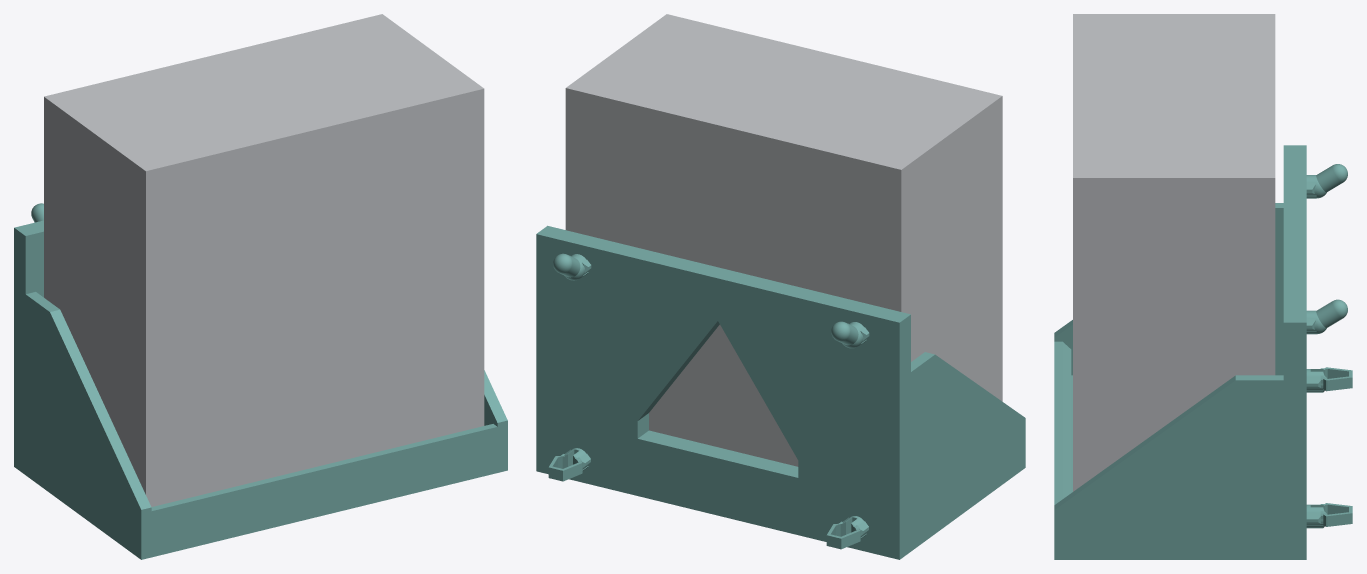
The model's file is loaded.glb.
3 views of the same model, side by side, from view 1: azimuth 30°, elevation 25°; view 2: azimuth 150°, elevation 25°; view 3: azimuth 270°, elevation 25° (orthographic).
Visible parts, largest first — view 1: reference_envelope, holder; view 2: reference_envelope, holder; view 3: reference_envelope, holder.
Part boxes in pixels (<box>): reference_envelope: <box>44,14,484,506</box>; holder: <box>14,203,507,559</box>; reference_envelope: <box>565,14,1002,466</box>; holder: <box>536,225,1025,559</box>; reference_envelope: <box>1073,14,1275,491</box>; holder: <box>1054,145,1352,559</box>.
Bounding box in the file's own units: 0.0996 × 0.0983 × 0.0708.
